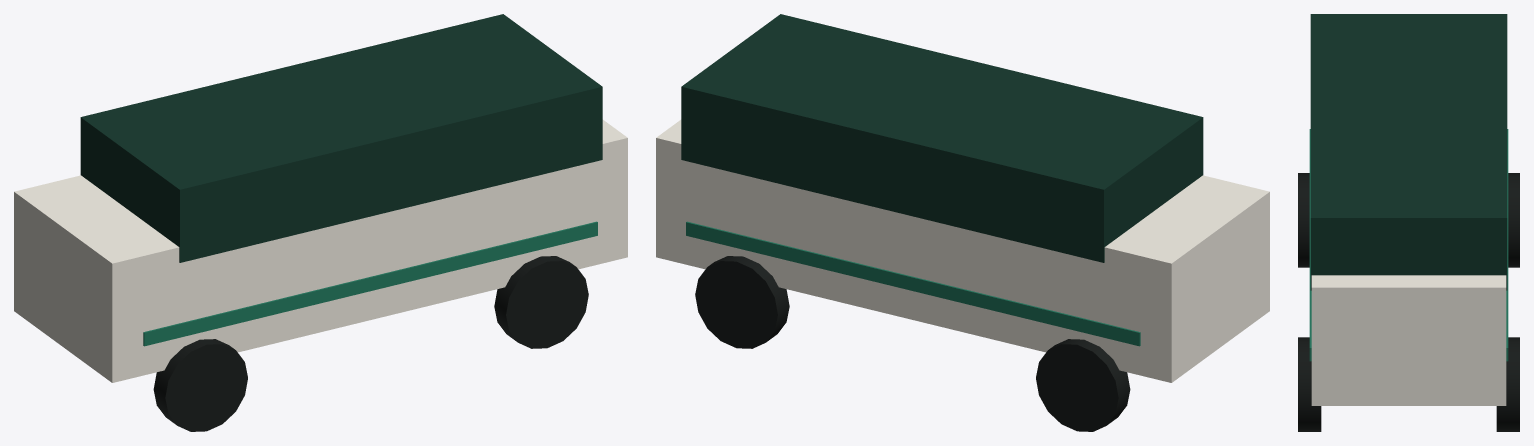
Rendered from sprinter.glb.
3 renders of one model, left to right at view 1: azimuth 30°, elevation 25°; view 2: azimuth 150°, elevation 25°; view 3: azimuth 270°, elevation 25°, orthographic.
Bounding box in the file's own units: 5.6 × 2.51 × 2.11.
